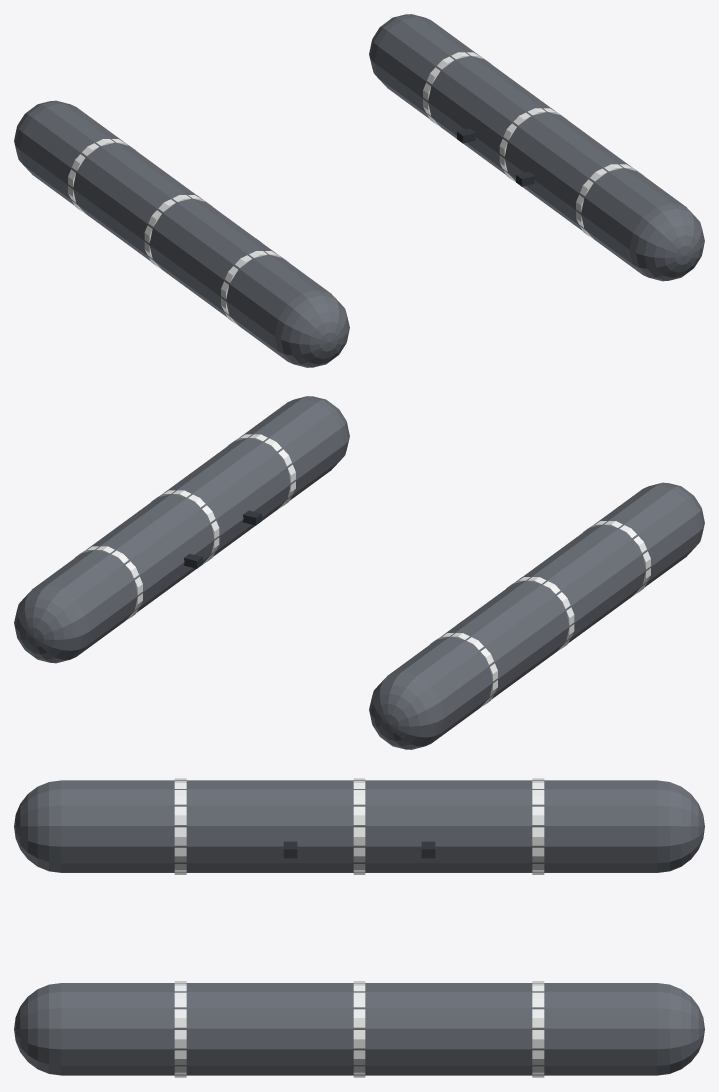
File: vortex_r.glb
3 renders of one model, top to bottom at view 1: azimuth 30°, elevation 25°; view 2: azimuth 150°, elevation 25°; view 3: azimuth 270°, elevation 25°, orthographic. The views are drawn at different scales.
Visible parts, largest first — view 1: model; view 2: model; view 3: model.
Boxes of the visible parts, box(x1,y1,x2,y2) form: model: box(14, 14, 704, 367); model: box(14, 396, 704, 749); model: box(14, 778, 704, 1077).
Bounding box in the file's own units: 2.91 × 0.4896 × 3.5.
1 material, 1 textured.
